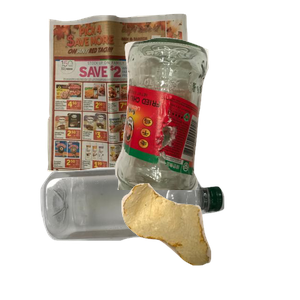glass: (112, 35, 300, 215)
paper: (44, 11, 229, 181)
plastic: (38, 165, 255, 300)
trash: (119, 181, 300, 300)
